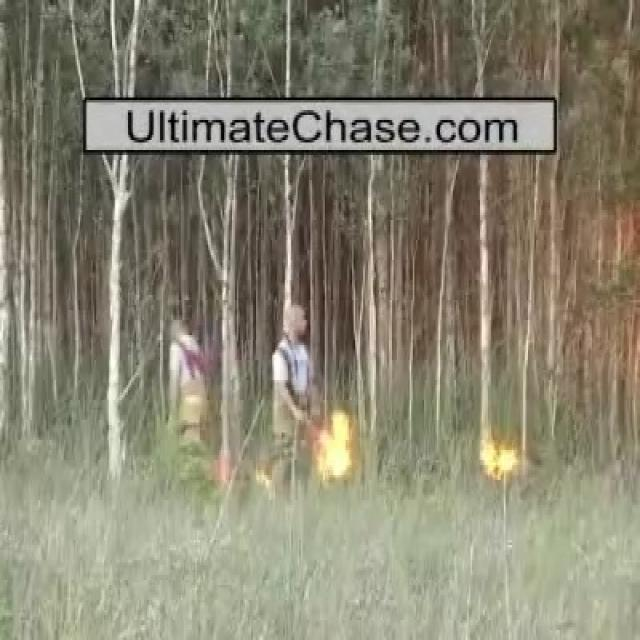fire: (320, 410, 350, 479), (481, 438, 515, 481)
